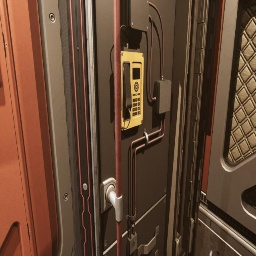EmergencyPhone ,: (120, 25, 144, 131)
